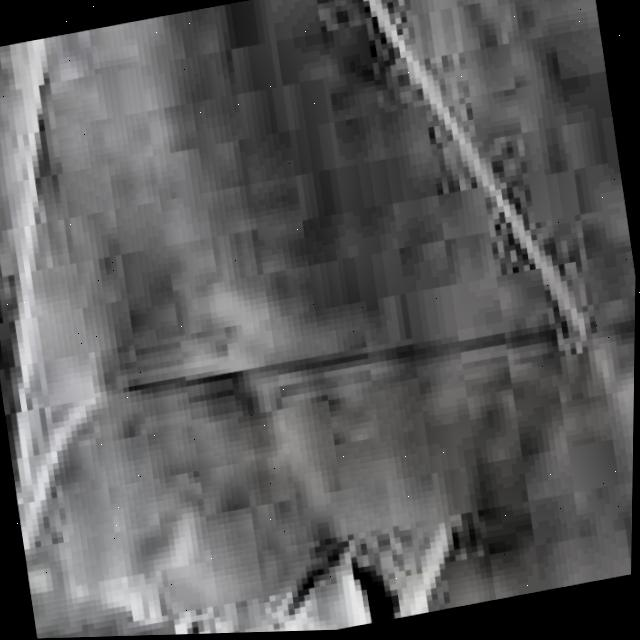paper: (14, 0, 637, 635)
